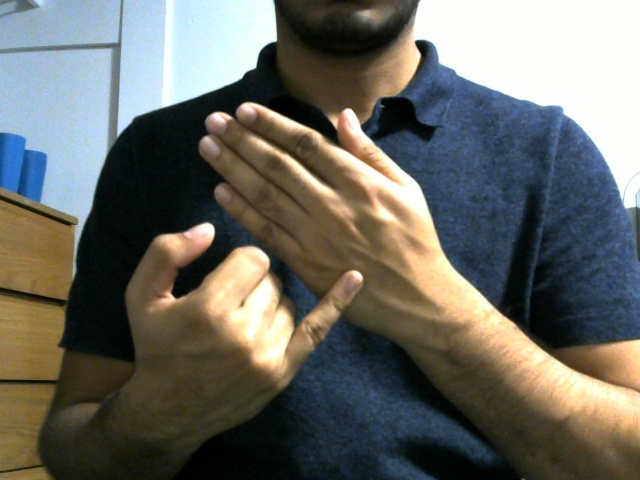Project: (124, 105, 477, 398)
